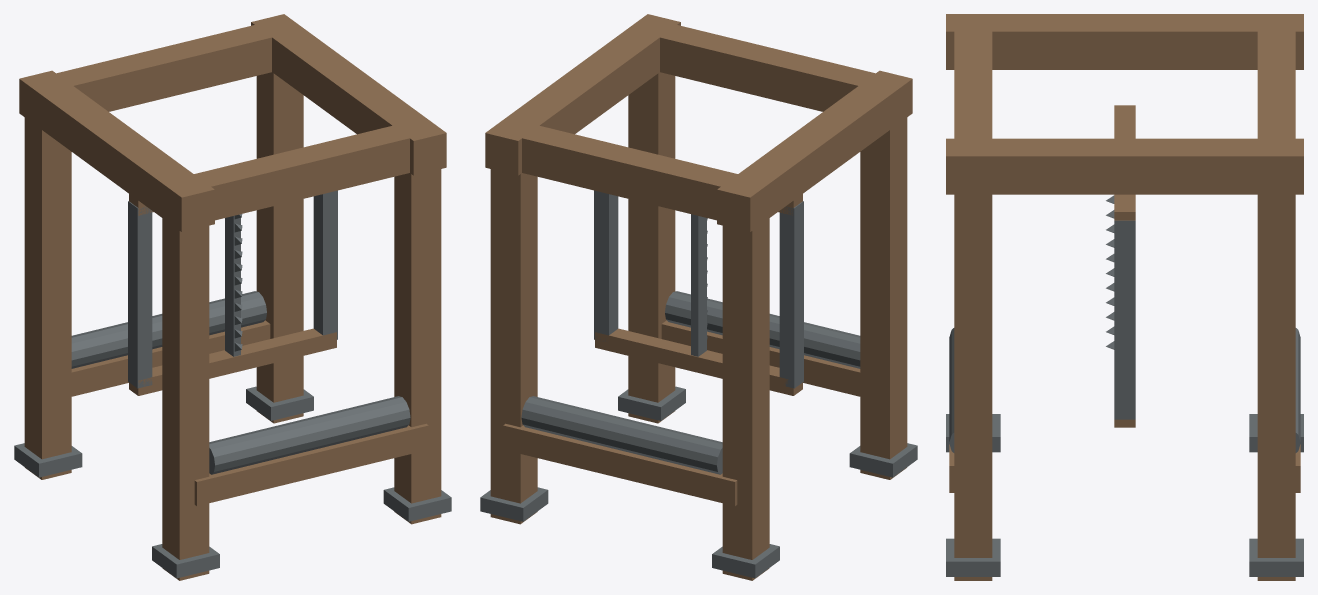
The model's file is vf_timber_saw.glb.
3 views of the same model, side by side, from view 1: azimuth 30°, elevation 25°; view 2: azimuth 150°, elevation 25°; view 3: azimuth 270°, elevation 25° (orthographic). The views are drawn at different scales.
Parts seen in each view (by area): view 1: Static_Oak, Saw_Frame_Iron, Roller_0.75_Iron, Static_Iron, Saw_Frame_Oak, Roller_-0.75_Iron; view 2: Static_Oak, Saw_Frame_Iron, Roller_-0.75_Iron, Static_Iron, Saw_Frame_Oak, Roller_0.75_Iron; view 3: Static_Oak, Saw_Frame_Iron, Static_Iron, Saw_Frame_Oak, Roller_-0.75_Iron, Roller_0.75_Iron.
Part boxes in pixels (x1,y1,x2,y2): Static_Oak: (19,14,446,580); Saw_Frame_Iron: (128,190,337,388); Roller_0.75_Iron: (209,396,410,474); Static_Iron: (14,386,451,578); Saw_Frame_Oak: (129,194,336,395); Roller_-0.75_Iron: (71,291,266,368); Static_Oak: (485,14,912,580); Saw_Frame_Iron: (594,190,803,388); Roller_-0.75_Iron: (521,396,722,474); Static_Iron: (480,386,917,578); Saw_Frame_Oak: (595,194,802,395); Roller_0.75_Iron: (665,291,860,368); Static_Oak: (946,14,1303,580); Saw_Frame_Iron: (1106,195,1135,419); Static_Iron: (946,414,1303,576); Saw_Frame_Oak: (1114,105,1135,427); Roller_-0.75_Iron: (1295,328,1300,452); Roller_0.75_Iron: (949,328,954,452).
Bounding box in the file's own units: 1.66 × 2.23 × 1.7.
